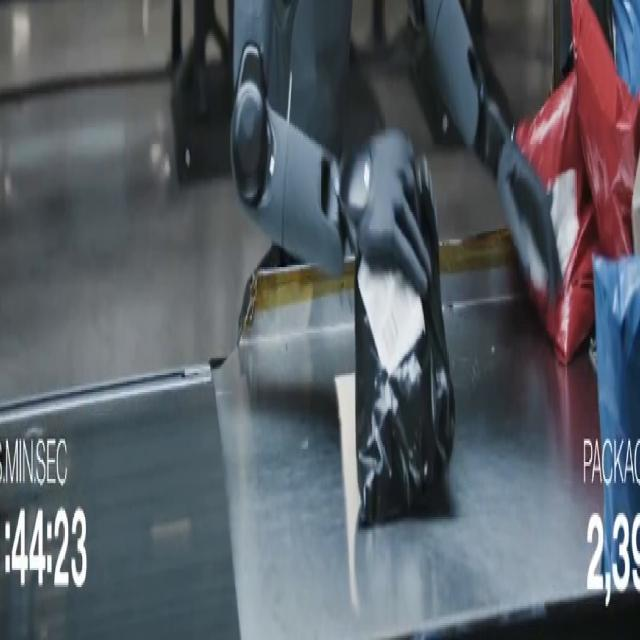package: (355, 159, 455, 525), (516, 73, 597, 364), (572, 0, 639, 258), (595, 257, 639, 574), (613, 0, 639, 97), (633, 162, 639, 254)
